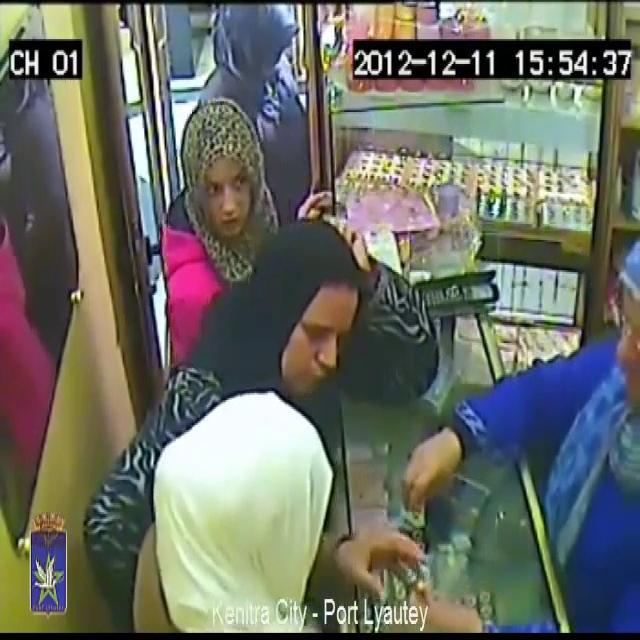Product: (409, 489, 431, 532), (412, 566, 428, 602)
normal: (121, 372, 401, 640), (246, 195, 378, 412), (200, 0, 300, 188), (167, 96, 267, 260)
shoplifting: (397, 229, 640, 640)
